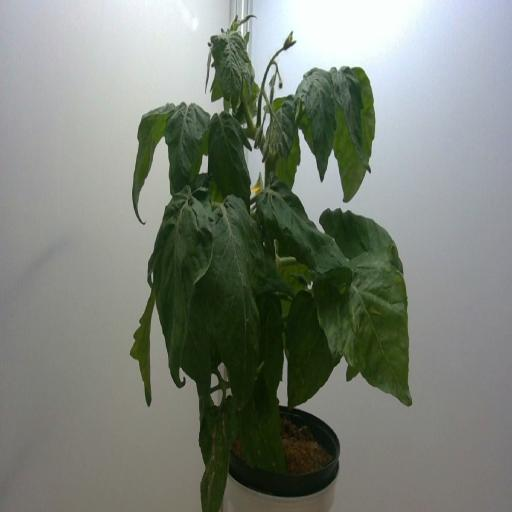Tomato-Leaves-Cupboard-: (309, 267, 418, 406), (201, 194, 268, 414), (150, 174, 214, 398), (259, 177, 353, 279), (320, 193, 408, 277), (287, 287, 339, 417), (127, 103, 175, 226), (334, 65, 377, 202), (177, 268, 213, 428), (236, 372, 289, 480), (206, 109, 256, 221), (329, 65, 373, 179), (164, 98, 210, 200), (197, 403, 240, 512), (128, 282, 159, 417), (254, 289, 286, 404), (296, 75, 333, 174), (265, 96, 299, 195), (214, 30, 247, 105), (228, 73, 258, 122), (343, 354, 362, 387)
